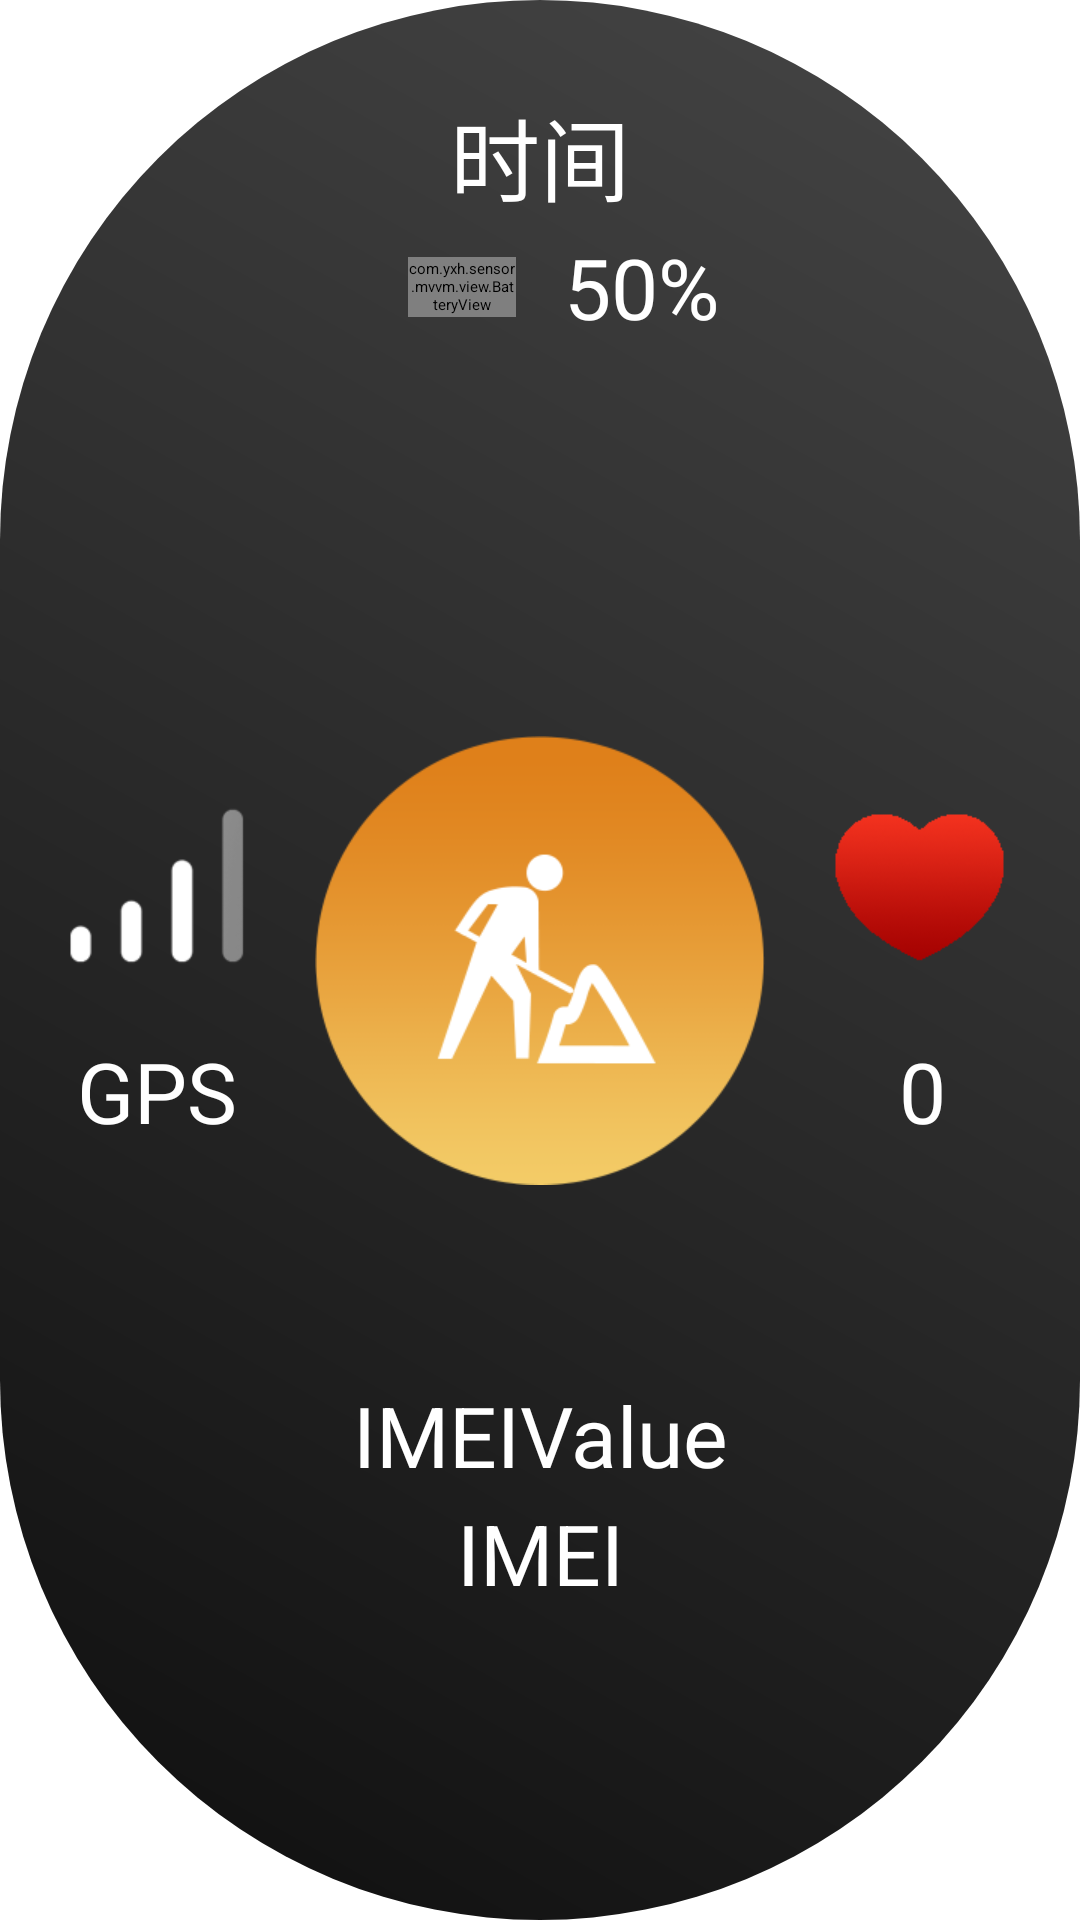

Icon click points for this 1080px x 1920px phone screenshot, format (x=x, y=y):
gif heart rate: (x=919, y=887)
